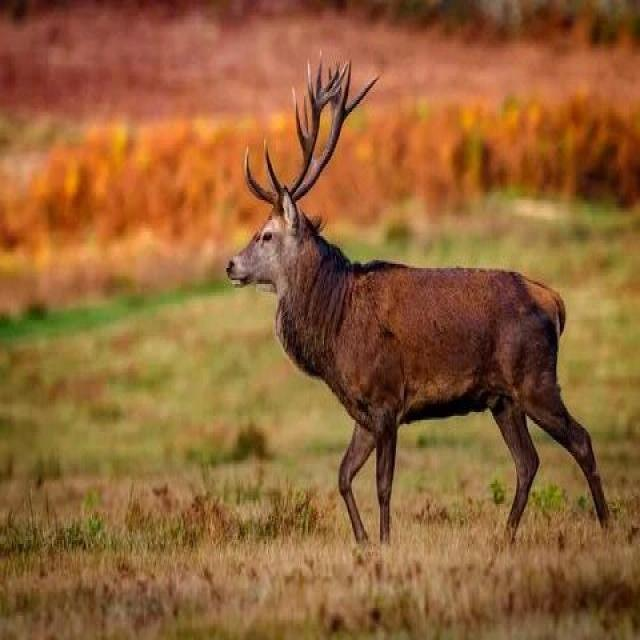deer: (205, 91, 550, 542)
